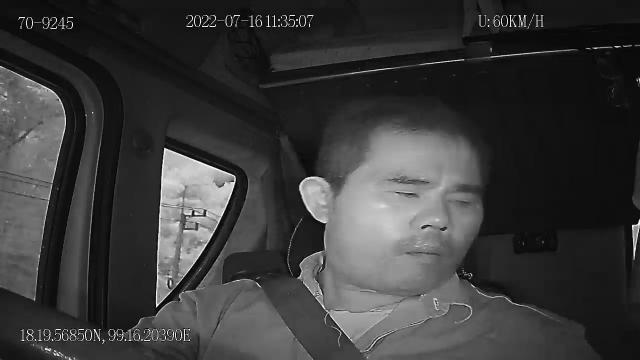SafeDriving: (376, 178, 429, 204)
Seatbelt: (258, 272, 369, 360)
